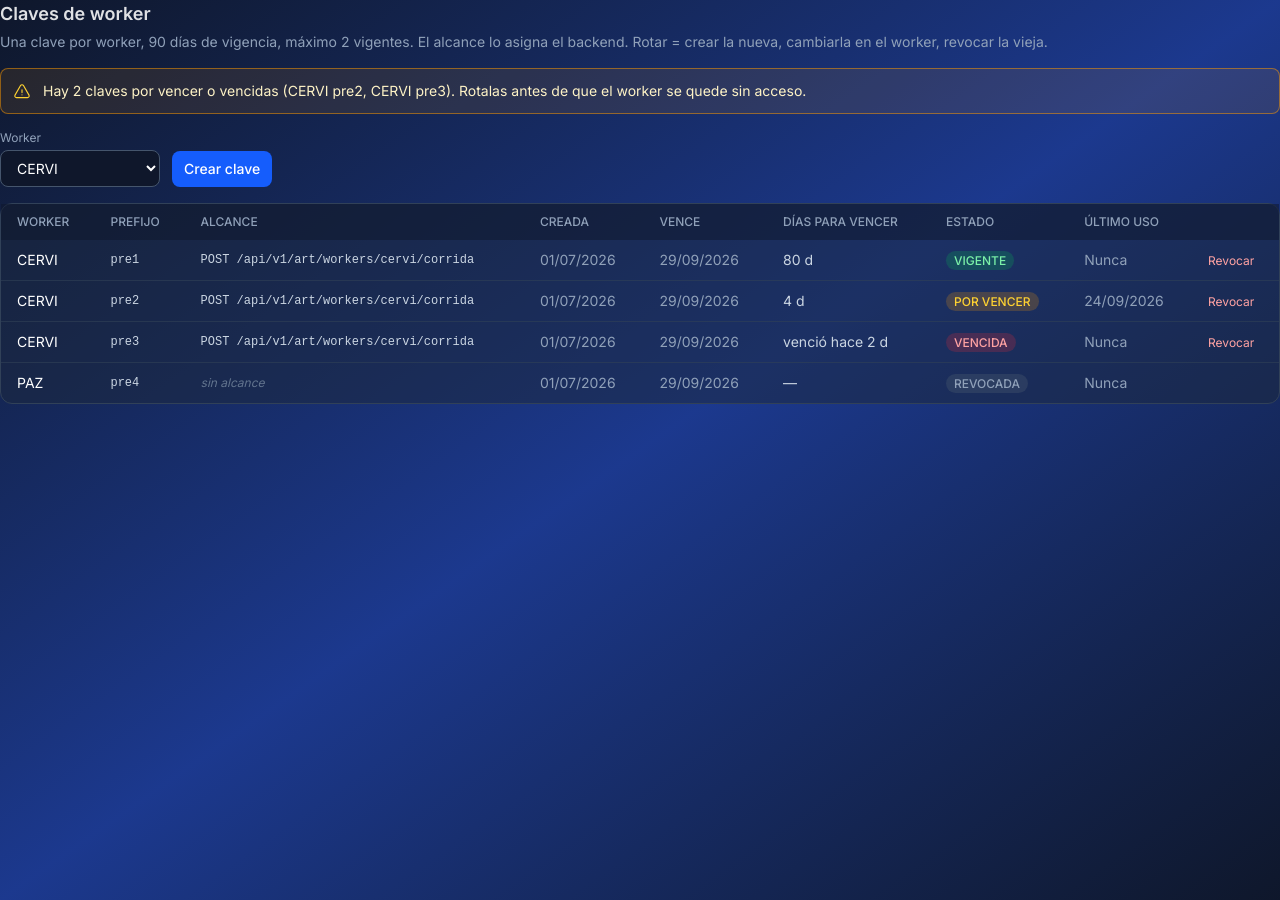
Scenario: la clave en claro › cerrar pide confirmación; "Volver" la conserva, "Sí, cerrar" la borra
Expected: the text "pre1" is shown, left=94, top=240, right=185, bottom=280
Click the button "Crear clave": (222, 169) left=172, top=151, right=272, bottom=187
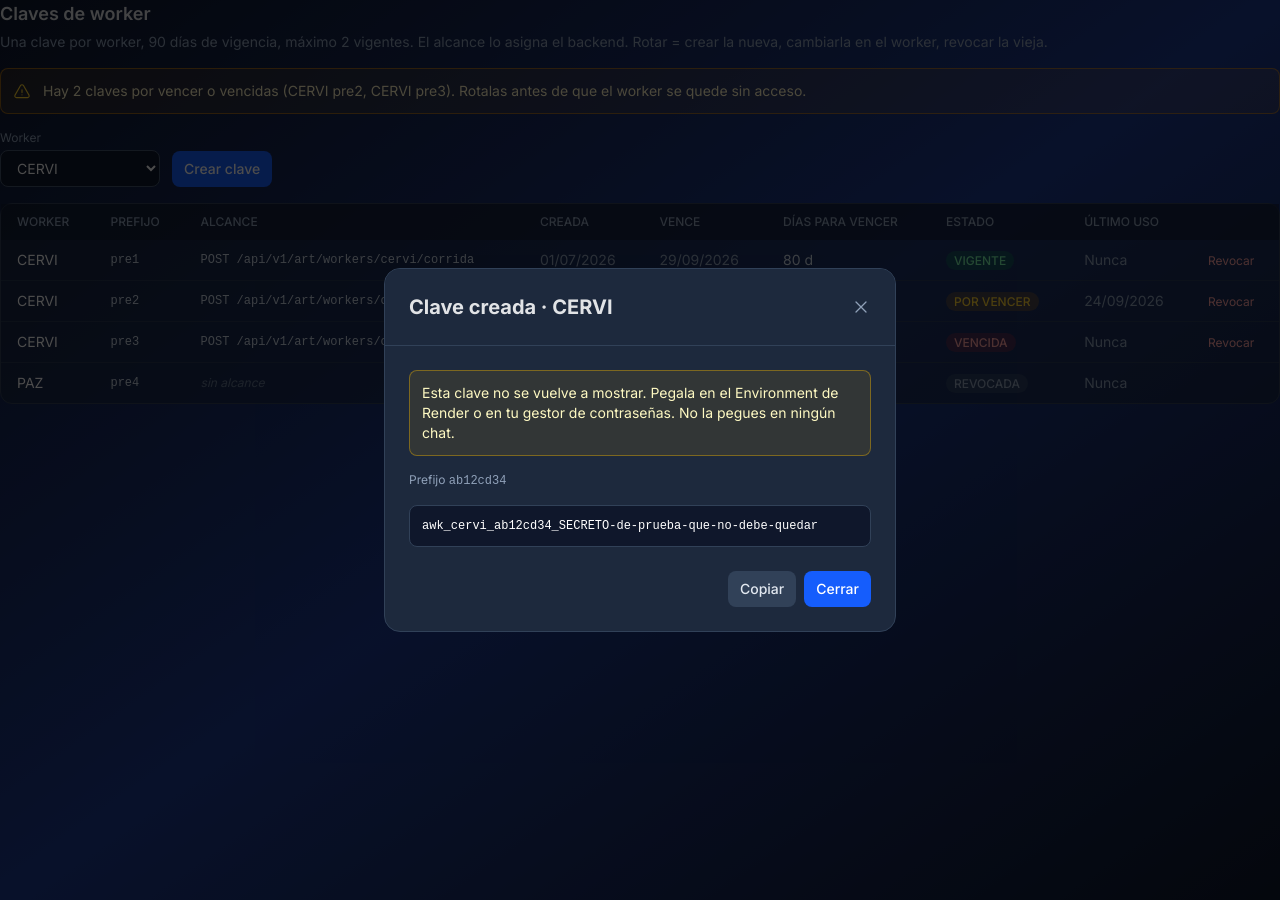
Click the button "Cerrar": (838, 589) left=804, top=571, right=871, bottom=607
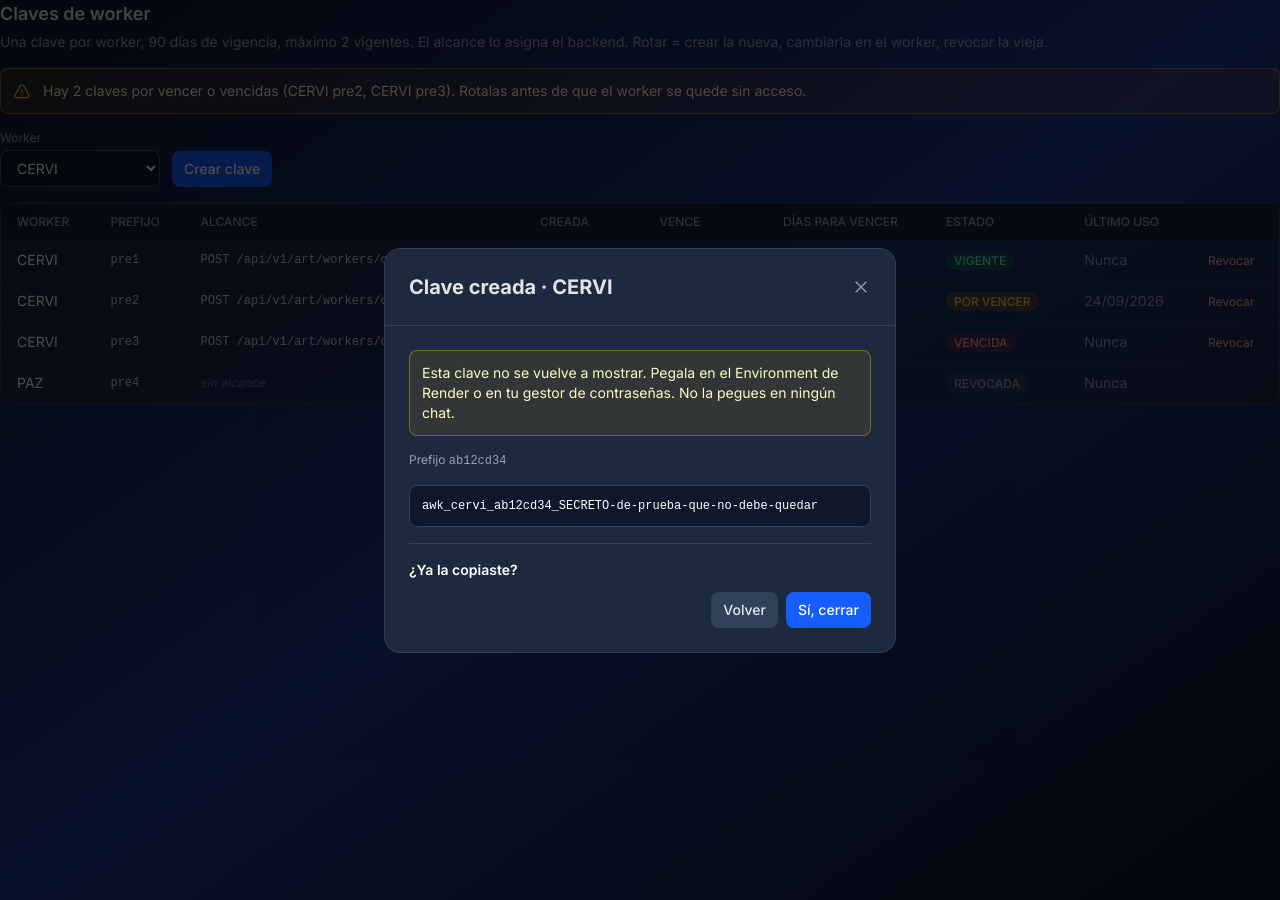
Expected: the text "awk_cervi_ab12cd34_SECRETO-de-prueba-que-no-debe-quedar" is shown, left=409, top=484, right=871, bottom=526
Expected: the text "¿Ya la copiaste?" is shown, left=409, top=560, right=518, bottom=578
Click the button "Volver": (745, 610) left=711, top=592, right=778, bottom=628
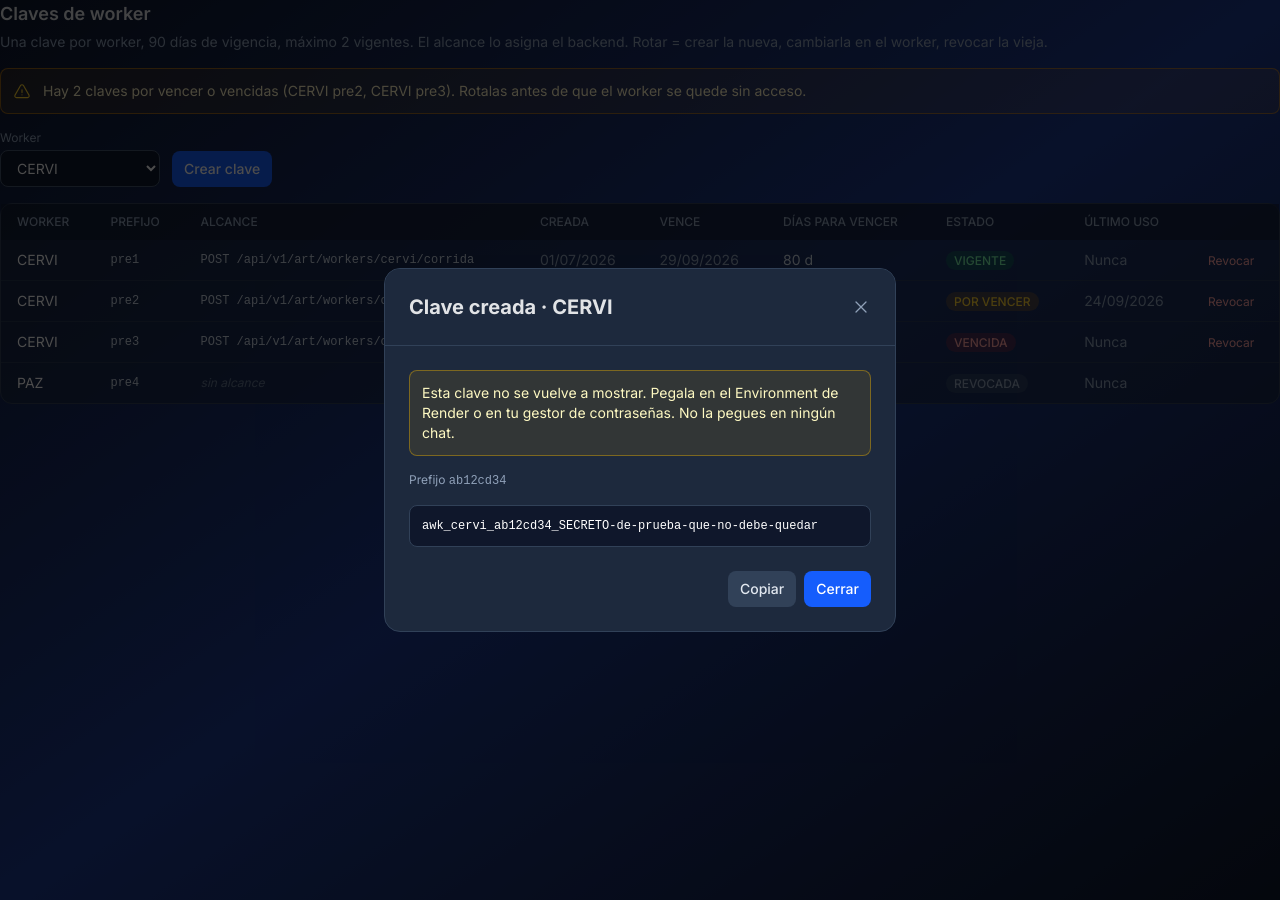
Expected: the text "awk_cervi_ab12cd34_SECRETO-de-prueba-que-no-debe-quedar" is shown, left=409, top=505, right=871, bottom=547
Click the button named "Cerrar": (861, 307) left=851, top=297, right=871, bottom=317
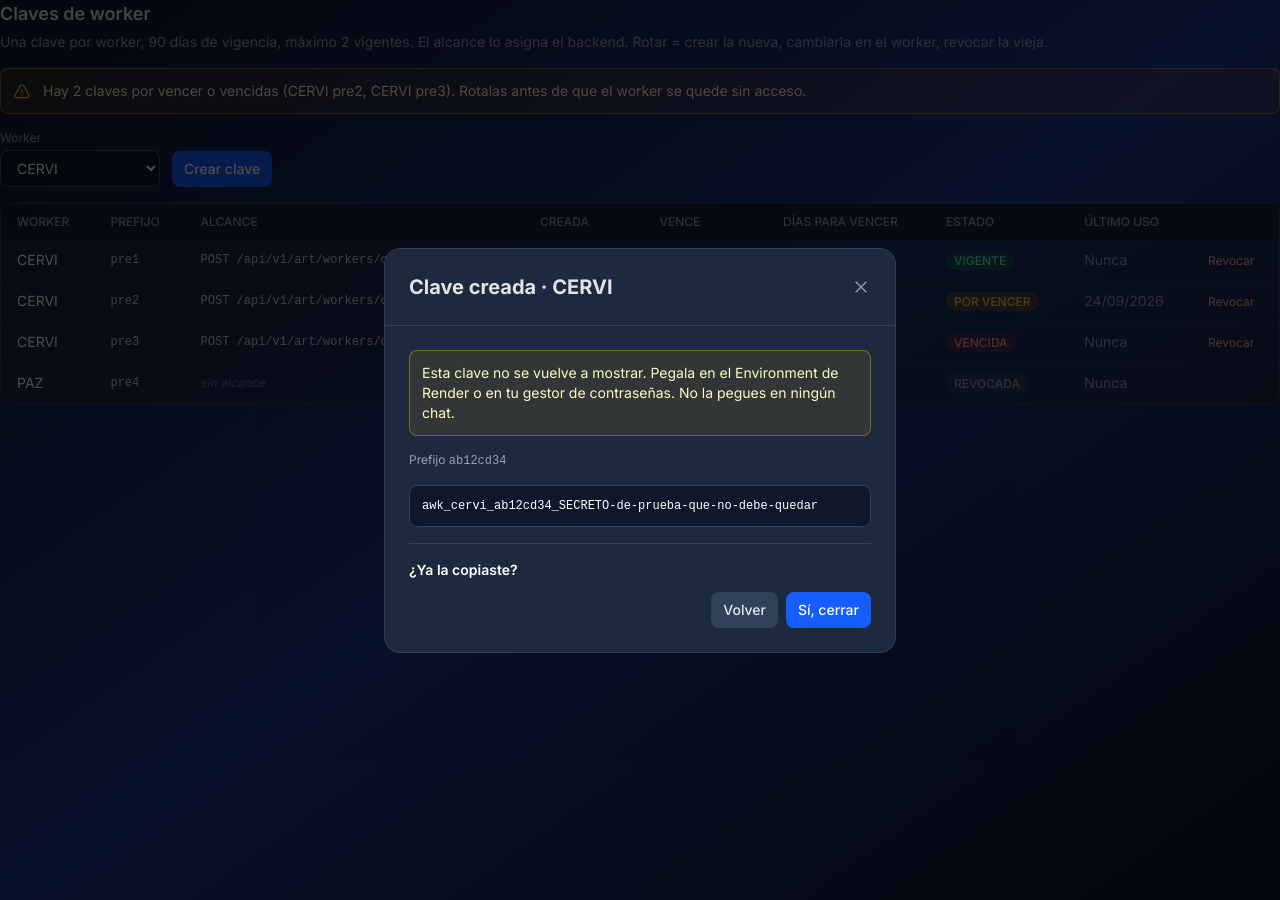
Click the button "Sí, cerrar": (828, 610) left=786, top=592, right=871, bottom=628
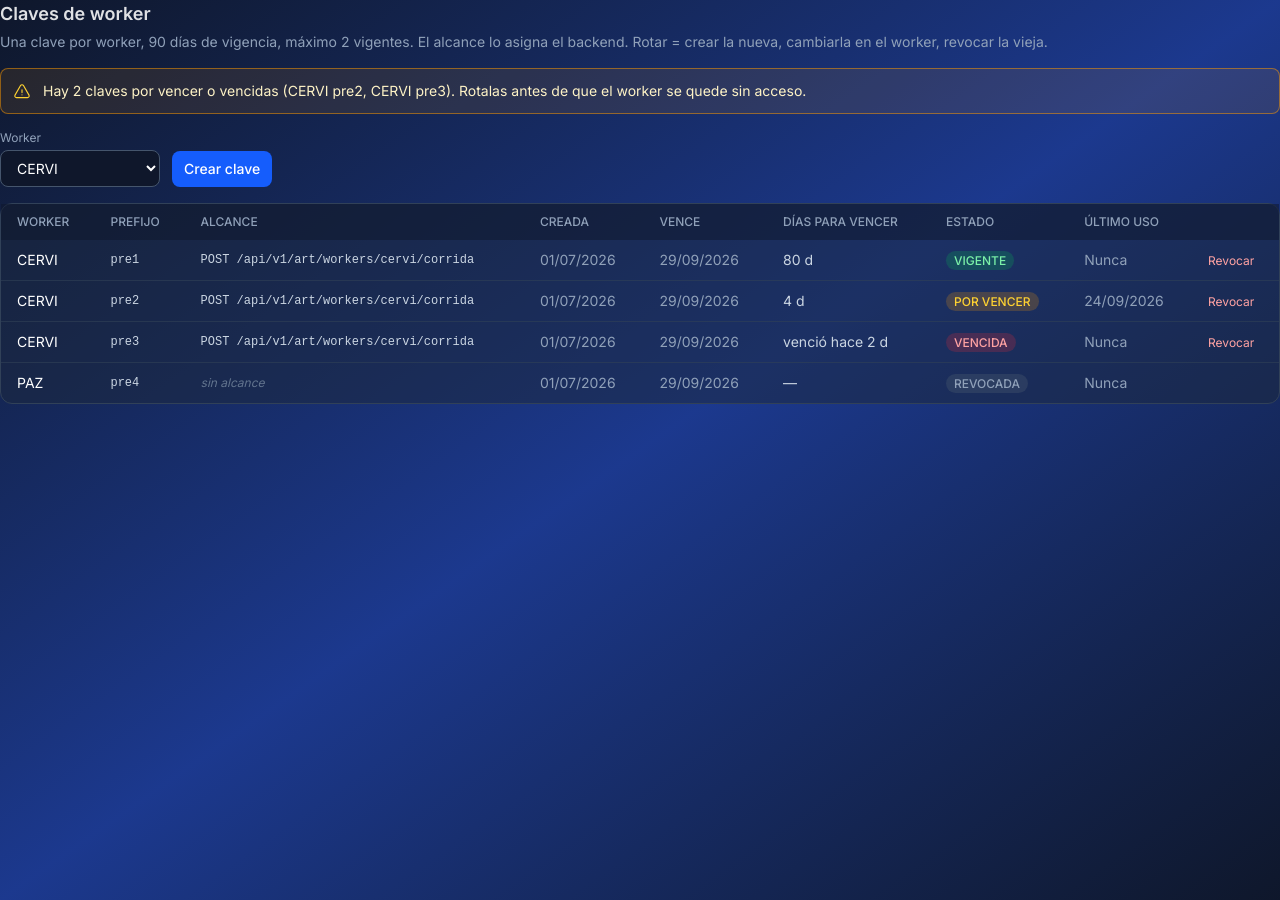
Expected: the text "pre1" is shown, left=94, top=240, right=185, bottom=280
Expected: the text with test id "clave-en-claro" is gone
Expected: the text "awk_cervi_ab12cd34_SECRETO-de-prueba-que-no-debe-quedar" is gone
